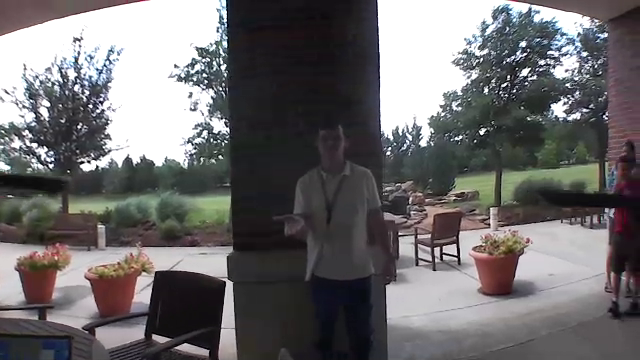land: (267, 205, 309, 240)
